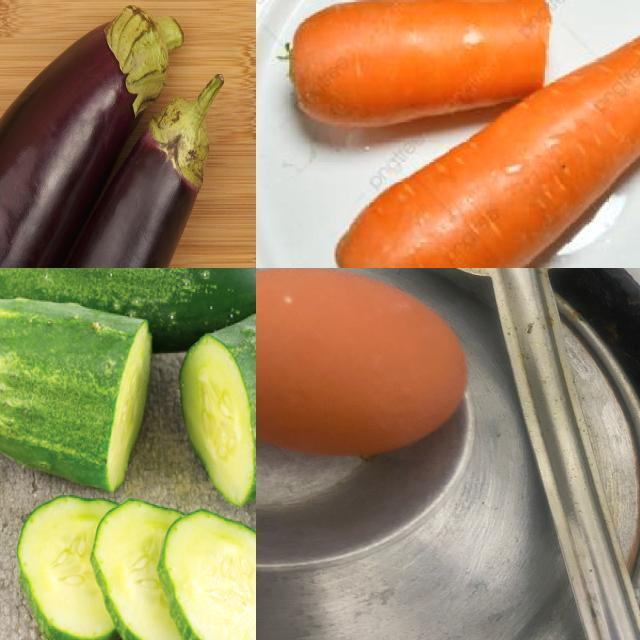carrot: (332, 1, 640, 269), (283, 1, 552, 123)
cucumber: (1, 299, 158, 491), (1, 269, 257, 349), (183, 295, 257, 511)
egg: (257, 269, 477, 459)
eggplant: (1, 1, 180, 269), (8, 71, 227, 269)
